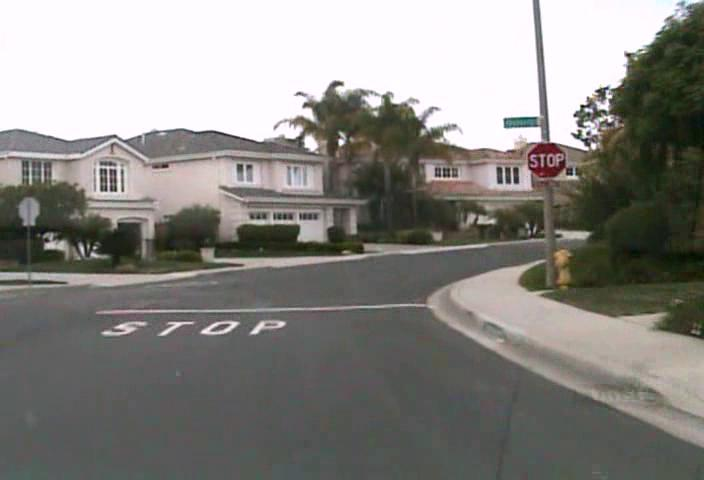stop: (526, 141, 567, 179)
